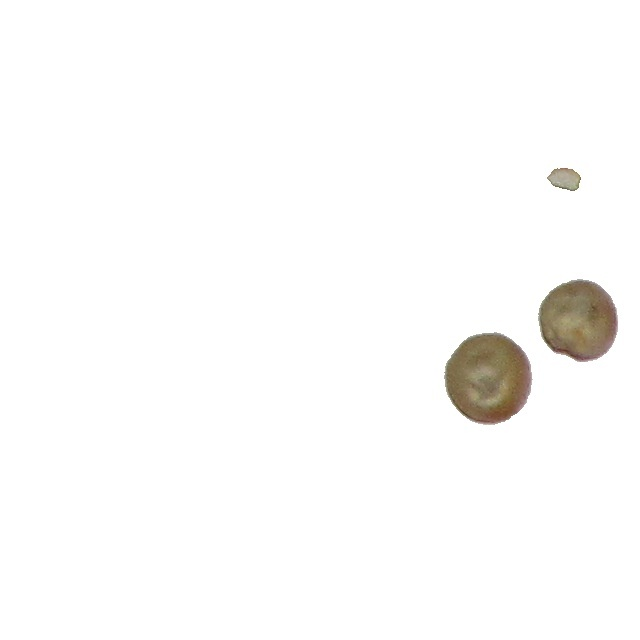buckwheat: (547, 167, 582, 191)
mais: (443, 331, 532, 424), (539, 279, 617, 361)
